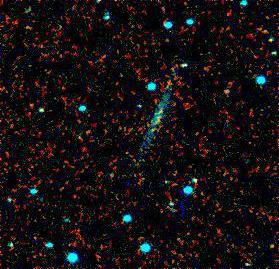star: (255, 227, 279, 257)
